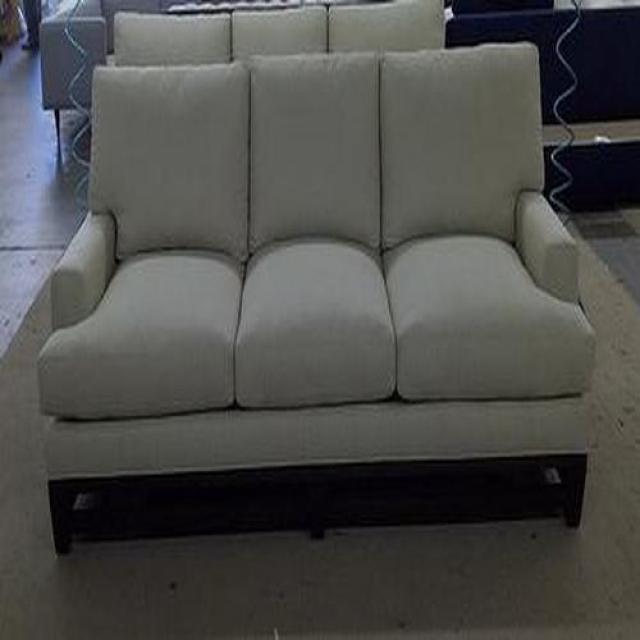sofa: (36, 0, 594, 556)
